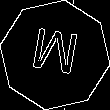M_S: (28, 26, 82, 84)
